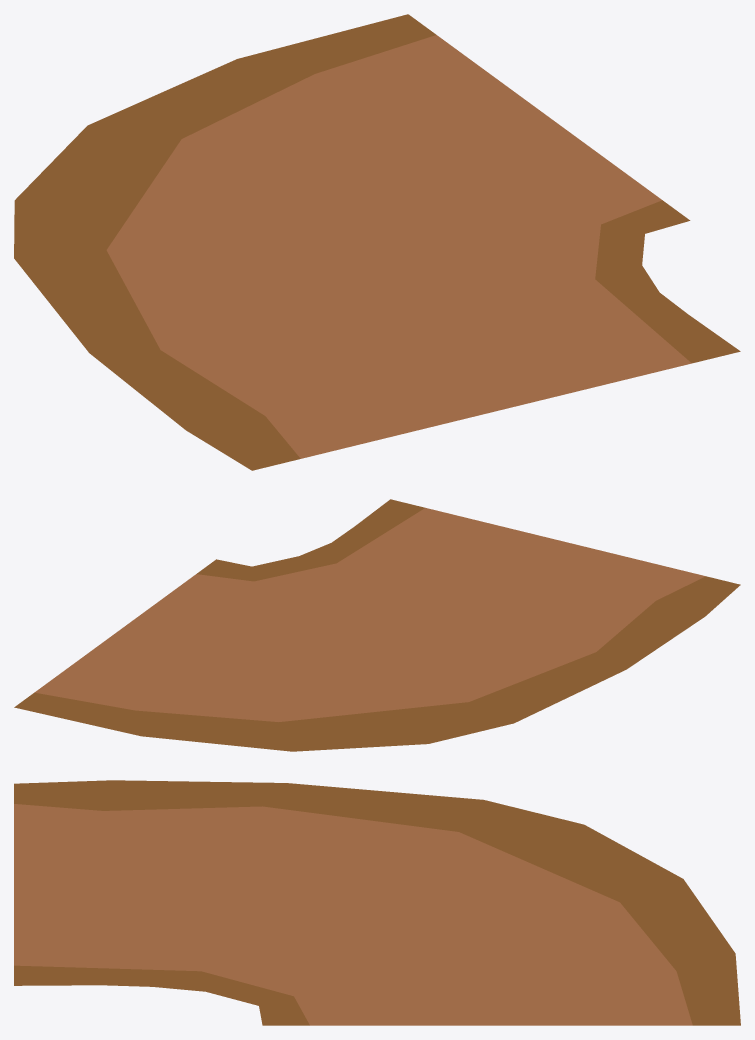
The model's file is dirt_road_90_turn.fbx.
The picture shows the model from 3 angles, top to bottom: view 1: azimuth 30°, elevation 25°; view 2: azimuth 150°, elevation 25°; view 3: azimuth 270°, elevation 25°; orthographic projection. The views are drawn at different scales.
Parts seen in each view (by area): view 1: dirt_road_90_turn; view 2: dirt_road_90_turn; view 3: dirt_road_90_turn.
Part boxes in pixels (x1,y1,x2,y2): dirt_road_90_turn: (14, 14, 740, 470); dirt_road_90_turn: (14, 499, 740, 751); dirt_road_90_turn: (14, 780, 740, 1025).
Size of the model in its own units: 121 by 0.1874 by 152.
